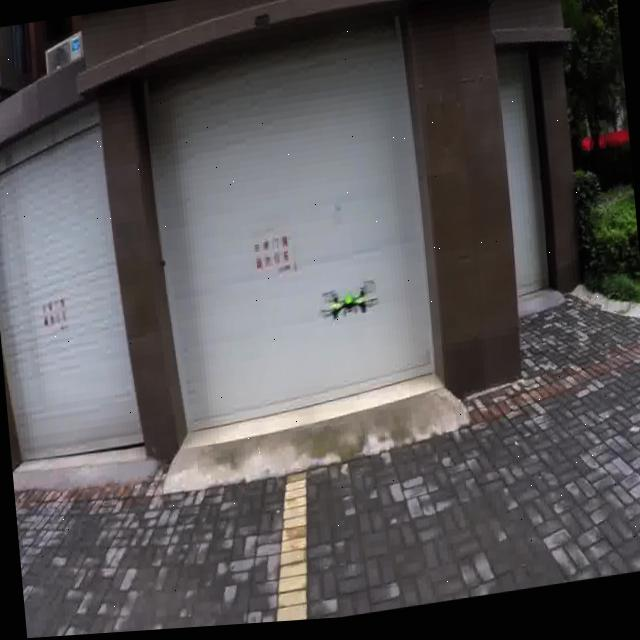drone: (314, 268, 390, 346)
